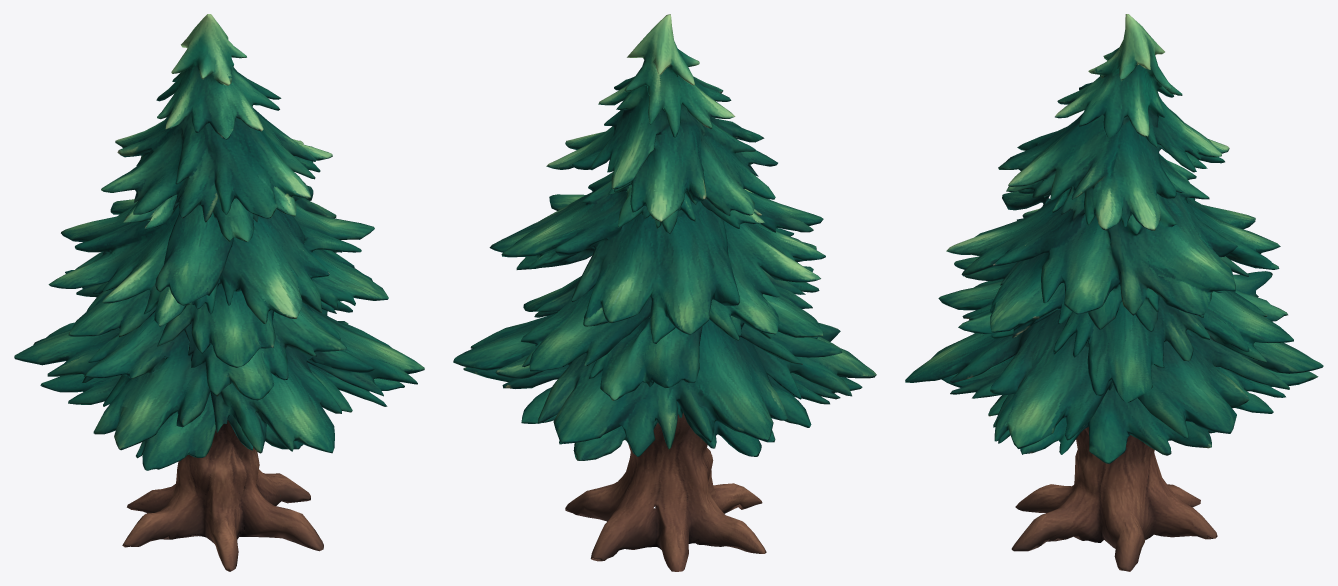
File: mountain-fir.glb
The picture shows the model from 3 angles, left to right: view 1: azimuth 30°, elevation 25°; view 2: azimuth 150°, elevation 25°; view 3: azimuth 270°, elevation 25°; orthographic projection. The views are drawn at different scales.
Bounding box in the file's own units: 0.6348 × 0.9922 × 0.7385.
Materials: 1 (1 with a texture image).
